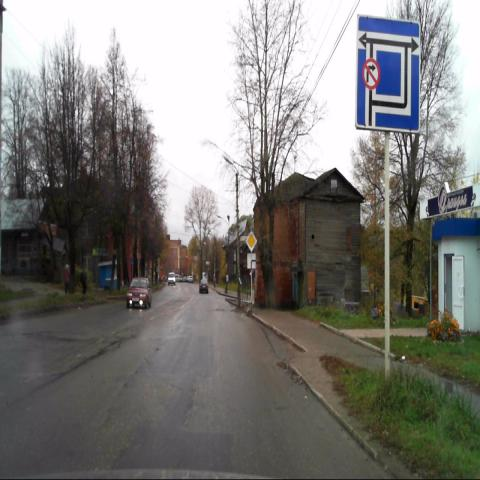3_18: (362, 57, 380, 90)
